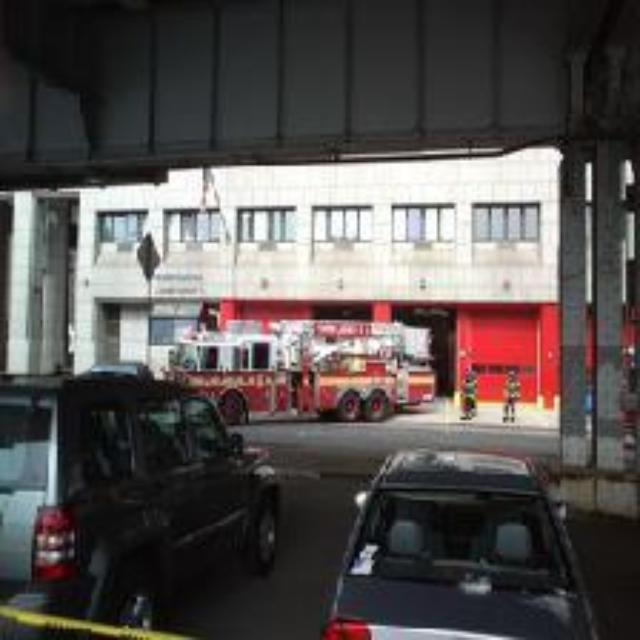emergency: (167, 274, 447, 432)
